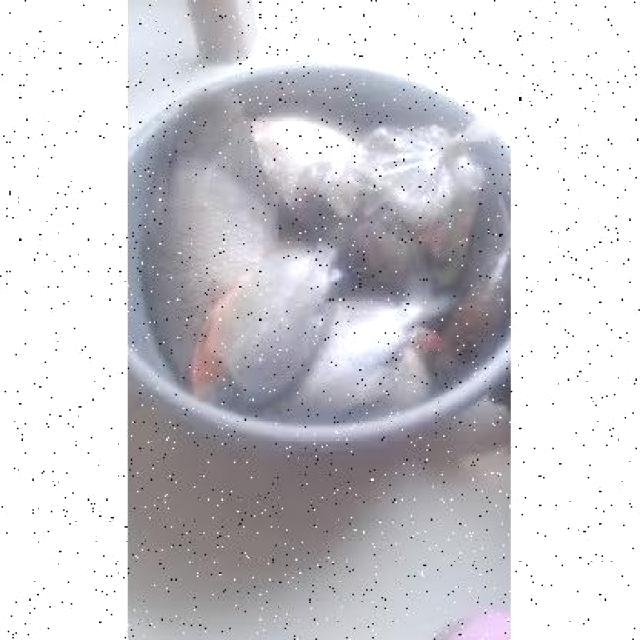ikan-pacu: (190, 243, 336, 412)
